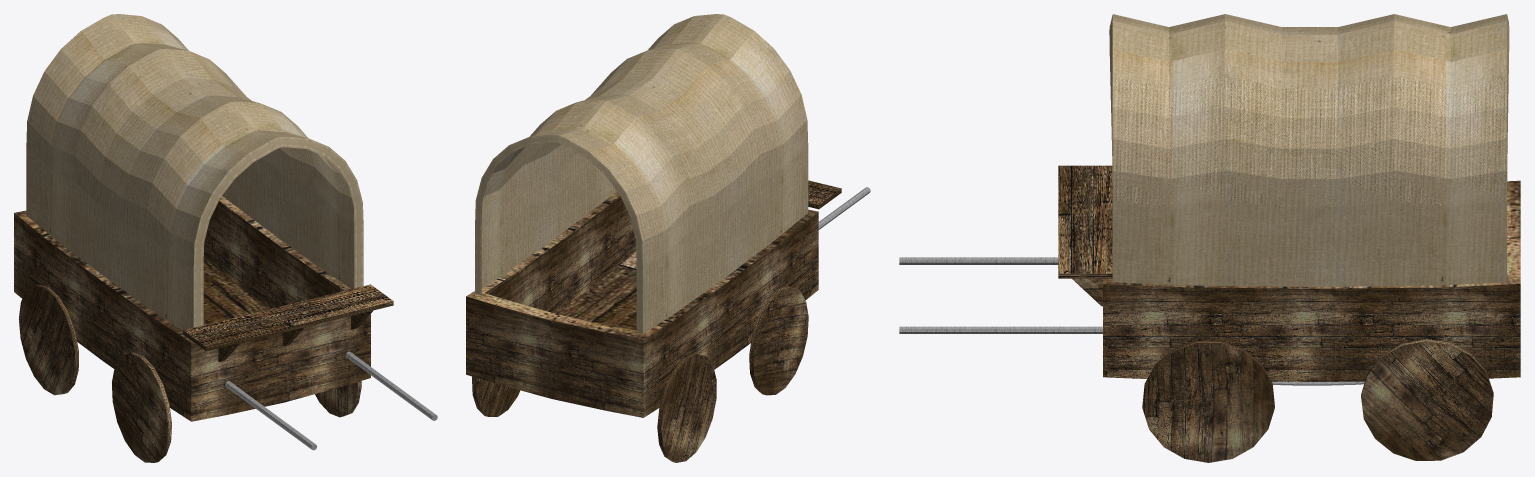
File: wagon.fbx
3 renders of one model, left to right at view 1: azimuth 30°, elevation 25°; view 2: azimuth 150°, elevation 25°; view 3: azimuth 270°, elevation 25°, orthographic. The views are drawn at different scales.
Visible parts, largest first — view 1: polySurface1, pCube1, pCube5, pCylinder9, pCylinder10, pCylinder1, pCylinder12, pCylinder8; view 2: polySurface1, pCube1, pCylinder9, pCylinder10, pCylinder11, pCube5, pCylinder12; view 3: polySurface1, pCube1, pCylinder11, pCylinder1, pCube5, pCylinder8, pCylinder12.
Part boxes in pixels (x1=…): polySurface1: x1=26, y1=14, x2=363, y2=330; pCube1: x1=14, y1=195, x2=370, y2=421; pCube5: x1=183, y1=284, x2=393, y2=351; pCylinder9: x1=112, y1=352, x2=171, y2=462; pCylinder10: x1=19, y1=284, x2=78, y2=395; pCylinder1: x1=315, y1=381, x2=361, y2=417; pCylinder12: x1=225, y1=381, x2=317, y2=450; pCylinder8: x1=345, y1=351, x2=437, y2=420; polySurface1: x1=475, y1=14, x2=808, y2=333; pCube1: x1=466, y1=191, x2=818, y2=417; pCylinder9: x1=749, y1=286, x2=808, y2=395; pCylinder10: x1=657, y1=353, x2=716, y2=462; pCylinder11: x1=472, y1=376, x2=520, y2=416; pCube5: x1=808, y1=180, x2=841, y2=209; pCylinder12: x1=818, y1=187, x2=870, y2=229; polySurface1: x1=1109, y1=14, x2=1509, y2=286; pCube1: x1=1103, y1=180, x2=1520, y2=381; pCylinder11: x1=1361, y1=339, x2=1493, y2=460; pCylinder1: x1=1142, y1=341, x2=1274, y2=462; pCube5: x1=1058, y1=165, x2=1112, y2=278; pCylinder8: x1=899, y1=326, x2=1102, y2=333; pCylinder12: x1=899, y1=257, x2=1058, y2=264.
Bounding box in the file's own units: 4.49 × 7.28 × 10.59.
